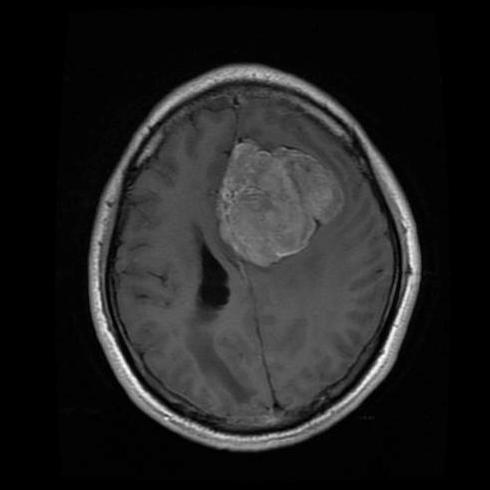Tumour-Meningioma: (204, 123, 356, 273)
